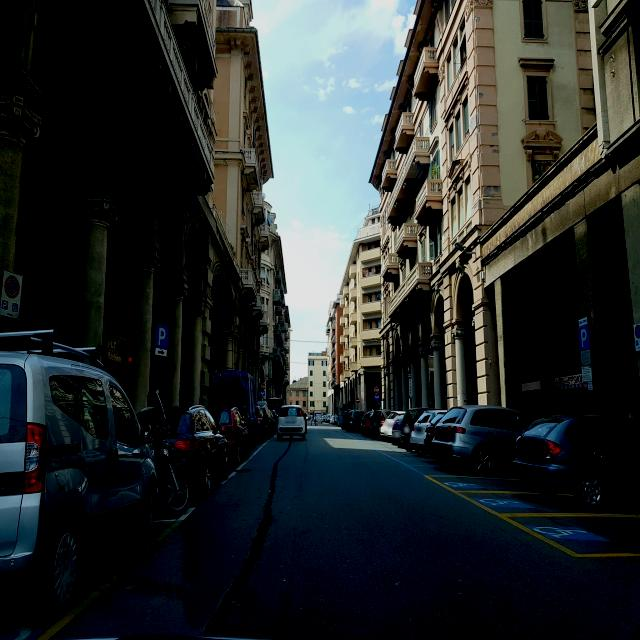bike: (134, 403, 189, 517)
car: (0, 332, 159, 617), (512, 412, 640, 508), (142, 403, 229, 499), (431, 405, 535, 476), (208, 405, 250, 468), (410, 409, 448, 455), (392, 409, 422, 448), (277, 404, 306, 441), (362, 409, 392, 438), (379, 411, 407, 442), (257, 401, 272, 439), (254, 403, 266, 442), (350, 410, 366, 431), (341, 409, 355, 430), (268, 405, 278, 433), (330, 414, 338, 424), (322, 413, 329, 423)
